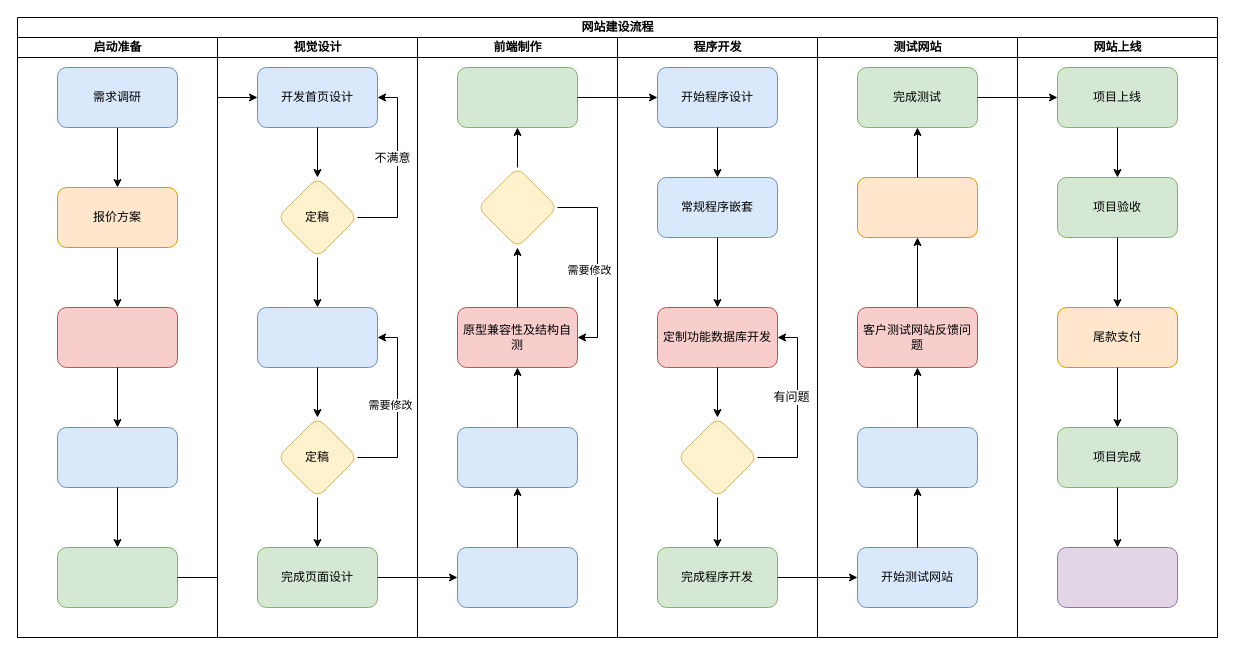
Image size: 1235x655. Some labels were removed from this diagram. Here are the shapes that lost their labels. From the top down, the centre of each, then its label:
At (x=517, y=97): "完成页面制作".
At (x=517, y=207): "兼容调试".
At (x=917, y=207): "优化、修复BUG".
At (x=117, y=337): "签订合同".
At (x=317, y=337): "内页设计".
At (x=117, y=457): "资料收集".
At (x=517, y=457): "对比设计稿调整".
At (x=717, y=457): "调试自检".
At (x=917, y=457): "网站内容录入".
At (x=117, y=577): "启动项目".
At (x=517, y=577): "开始页面原型布局".
At (x=1117, y=577): "项目维护".
